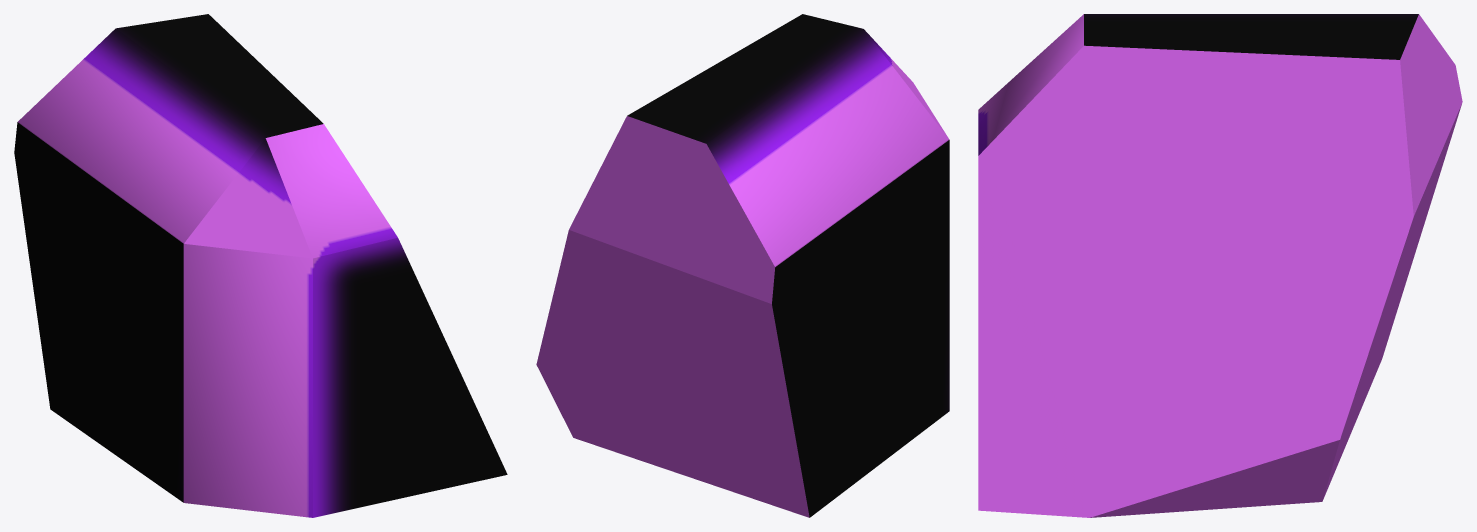
File: blockParticle_2.gltf
The picture shows the model from 3 angles, left to right: view 1: azimuth 30°, elevation 25°; view 2: azimuth 150°, elevation 25°; view 3: azimuth 270°, elevation 25°; orthographic projection. The views are drawn at different scales.
Visible parts, largest first — view 1: 立方体_cell.002; view 2: 立方体_cell.002; view 3: 立方体_cell.002.
Boxes of the visible parts, x1=… form: 立方体_cell.002: x1=14, y1=14, x2=507, y2=517; 立方体_cell.002: x1=536, y1=14, x2=949, y2=517; 立方体_cell.002: x1=978, y1=14, x2=1462, y2=517.
Size of the model in its own units: 0.7422 by 0.8748 by 0.972.
Materials: 2 (2 with a texture image).
